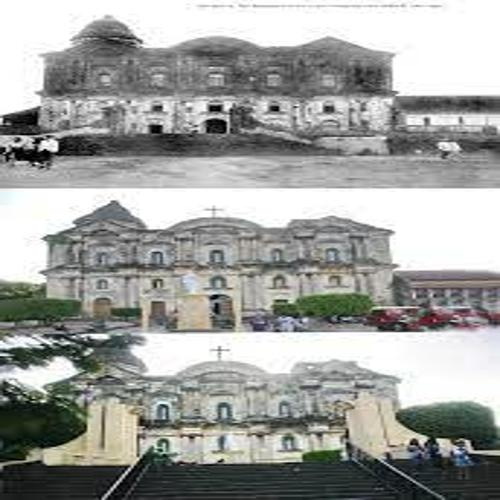Taal Basilica Church: (25, 11, 409, 175), (35, 197, 412, 335), (41, 342, 426, 476)
